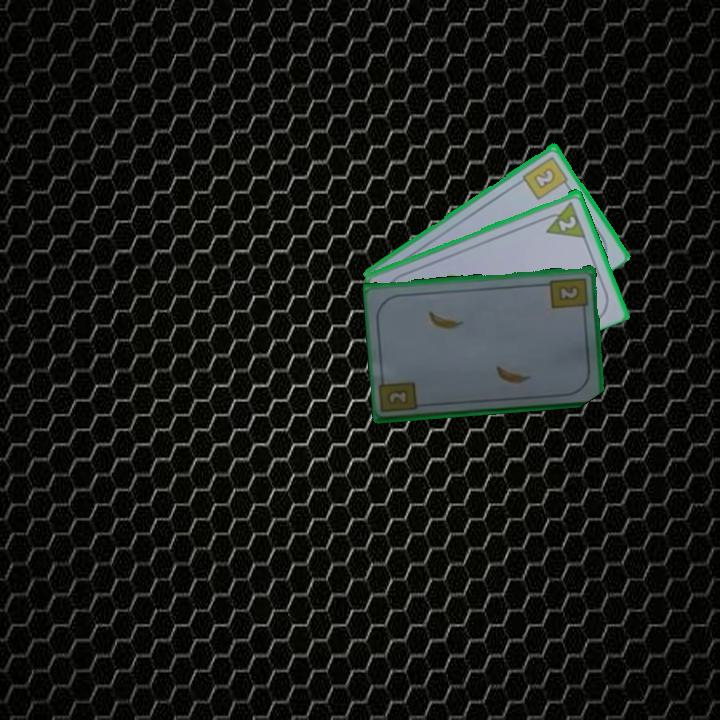2b: (519, 152, 573, 202), (547, 274, 591, 315), (386, 386, 411, 407)
2p: (555, 212, 579, 234)
